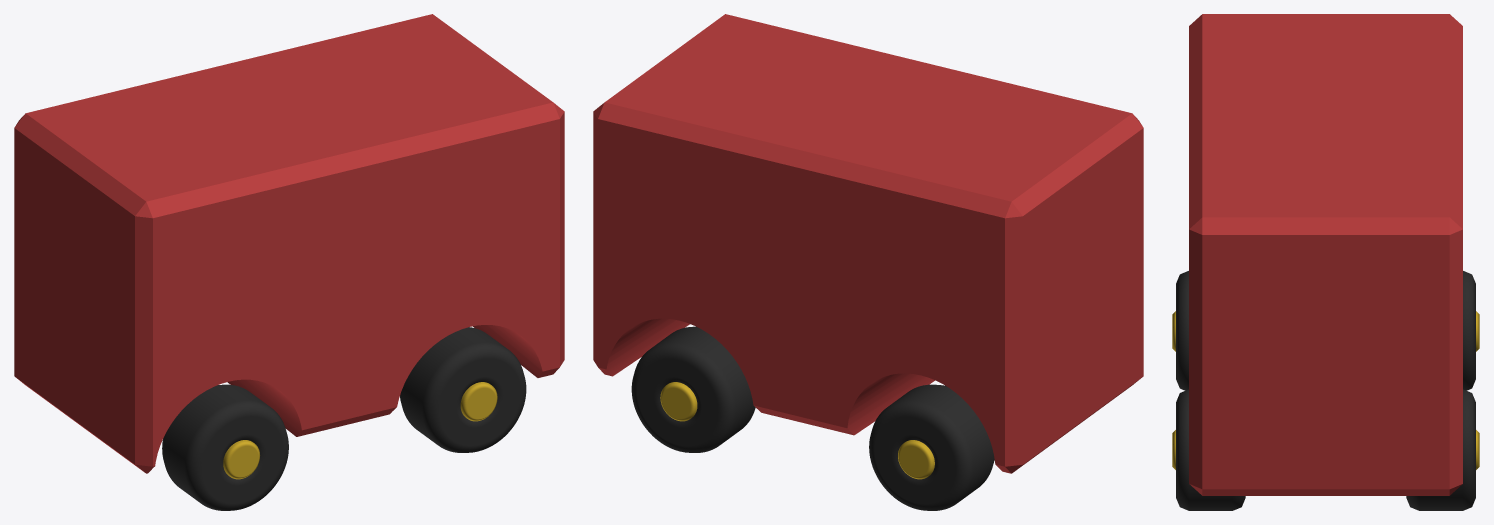
The model's file is car_design.gltf.
The picture shows the model from 3 angles, left to right: view 1: azimuth 30°, elevation 25°; view 2: azimuth 150°, elevation 25°; view 3: azimuth 270°, elevation 25°; orthographic projection. The views are drawn at different scales.
Visible parts, largest first — view 1: Boolean, Ellipse (×2), Ellipse 2 (×2); view 2: Boolean, Ellipse (×2), Ellipse 2 (×2); view 3: Boolean, Ellipse (×4).
Boxes of the visible parts, x1,y1,x2,y2 form: Boolean: [14, 14, 564, 473]; Ellipse (×2): [162, 327, 526, 510]; Ellipse 2 (×2): [223, 382, 497, 479]; Boolean: [593, 14, 1143, 473]; Ellipse (×2): [631, 326, 994, 510]; Ellipse 2 (×2): [660, 382, 934, 479]; Boolean: [1189, 14, 1462, 495]; Ellipse (×4): [1176, 271, 1475, 510].
Size of the model in its own units: 0.76 by 0.5467 by 0.4596.
